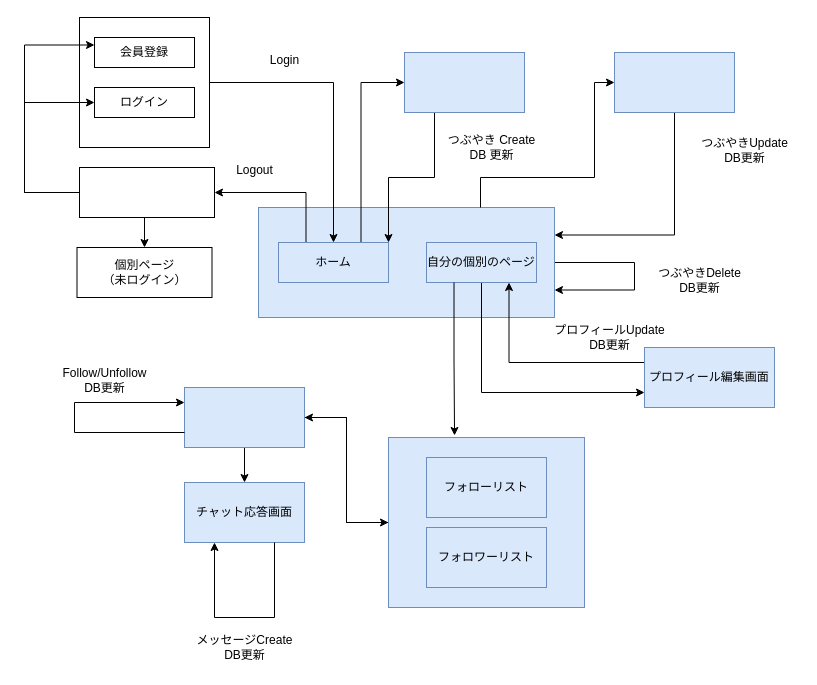
This 817x685 diagram has some shape labels left out. Here are the shapes that lost their labels. From the top down, the centre of each, then its label:
the point at 464,82: つぶやき作成画面
the point at 674,82: つぶやき更新画面
the point at 146,192: ホーム （未ログイン）
the point at 244,417: 他人の個別ページ
